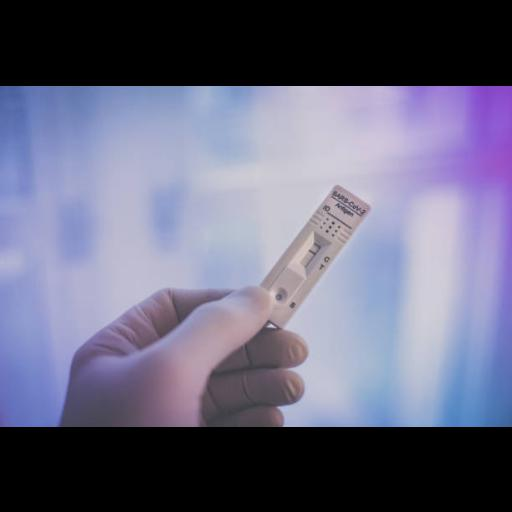Neg: (242, 183, 373, 331)
